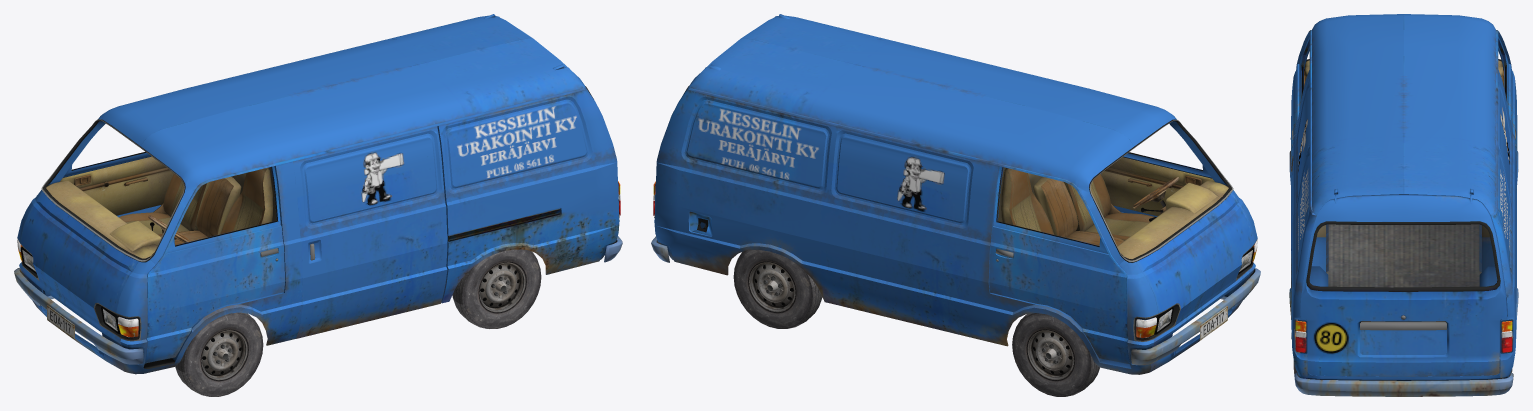
File: Van.fbx
3 renders of one model, left to right at view 1: azimuth 30°, elevation 25°; view 2: azimuth 150°, elevation 25°; view 3: azimuth 270°, elevation 25°, orthographic. The views are drawn at different scales.
Parts seen in each view (by area): view 1: car, Wheel, Wheel001; view 2: car, Wheel003, Wheel002; view 3: car.
Boxes of the visible parts, bbox=[...] form: car: bbox=[14, 14, 622, 374]; Wheel: bbox=[175, 312, 263, 396]; Wheel001: bbox=[452, 249, 541, 328]; car: bbox=[651, 14, 1260, 374]; Wheel003: bbox=[1012, 313, 1099, 396]; Wheel002: bbox=[733, 250, 822, 328]; car: bbox=[1289, 14, 1518, 396].
Size of the model in its own units: 4.74 by 2.04 by 1.86.
